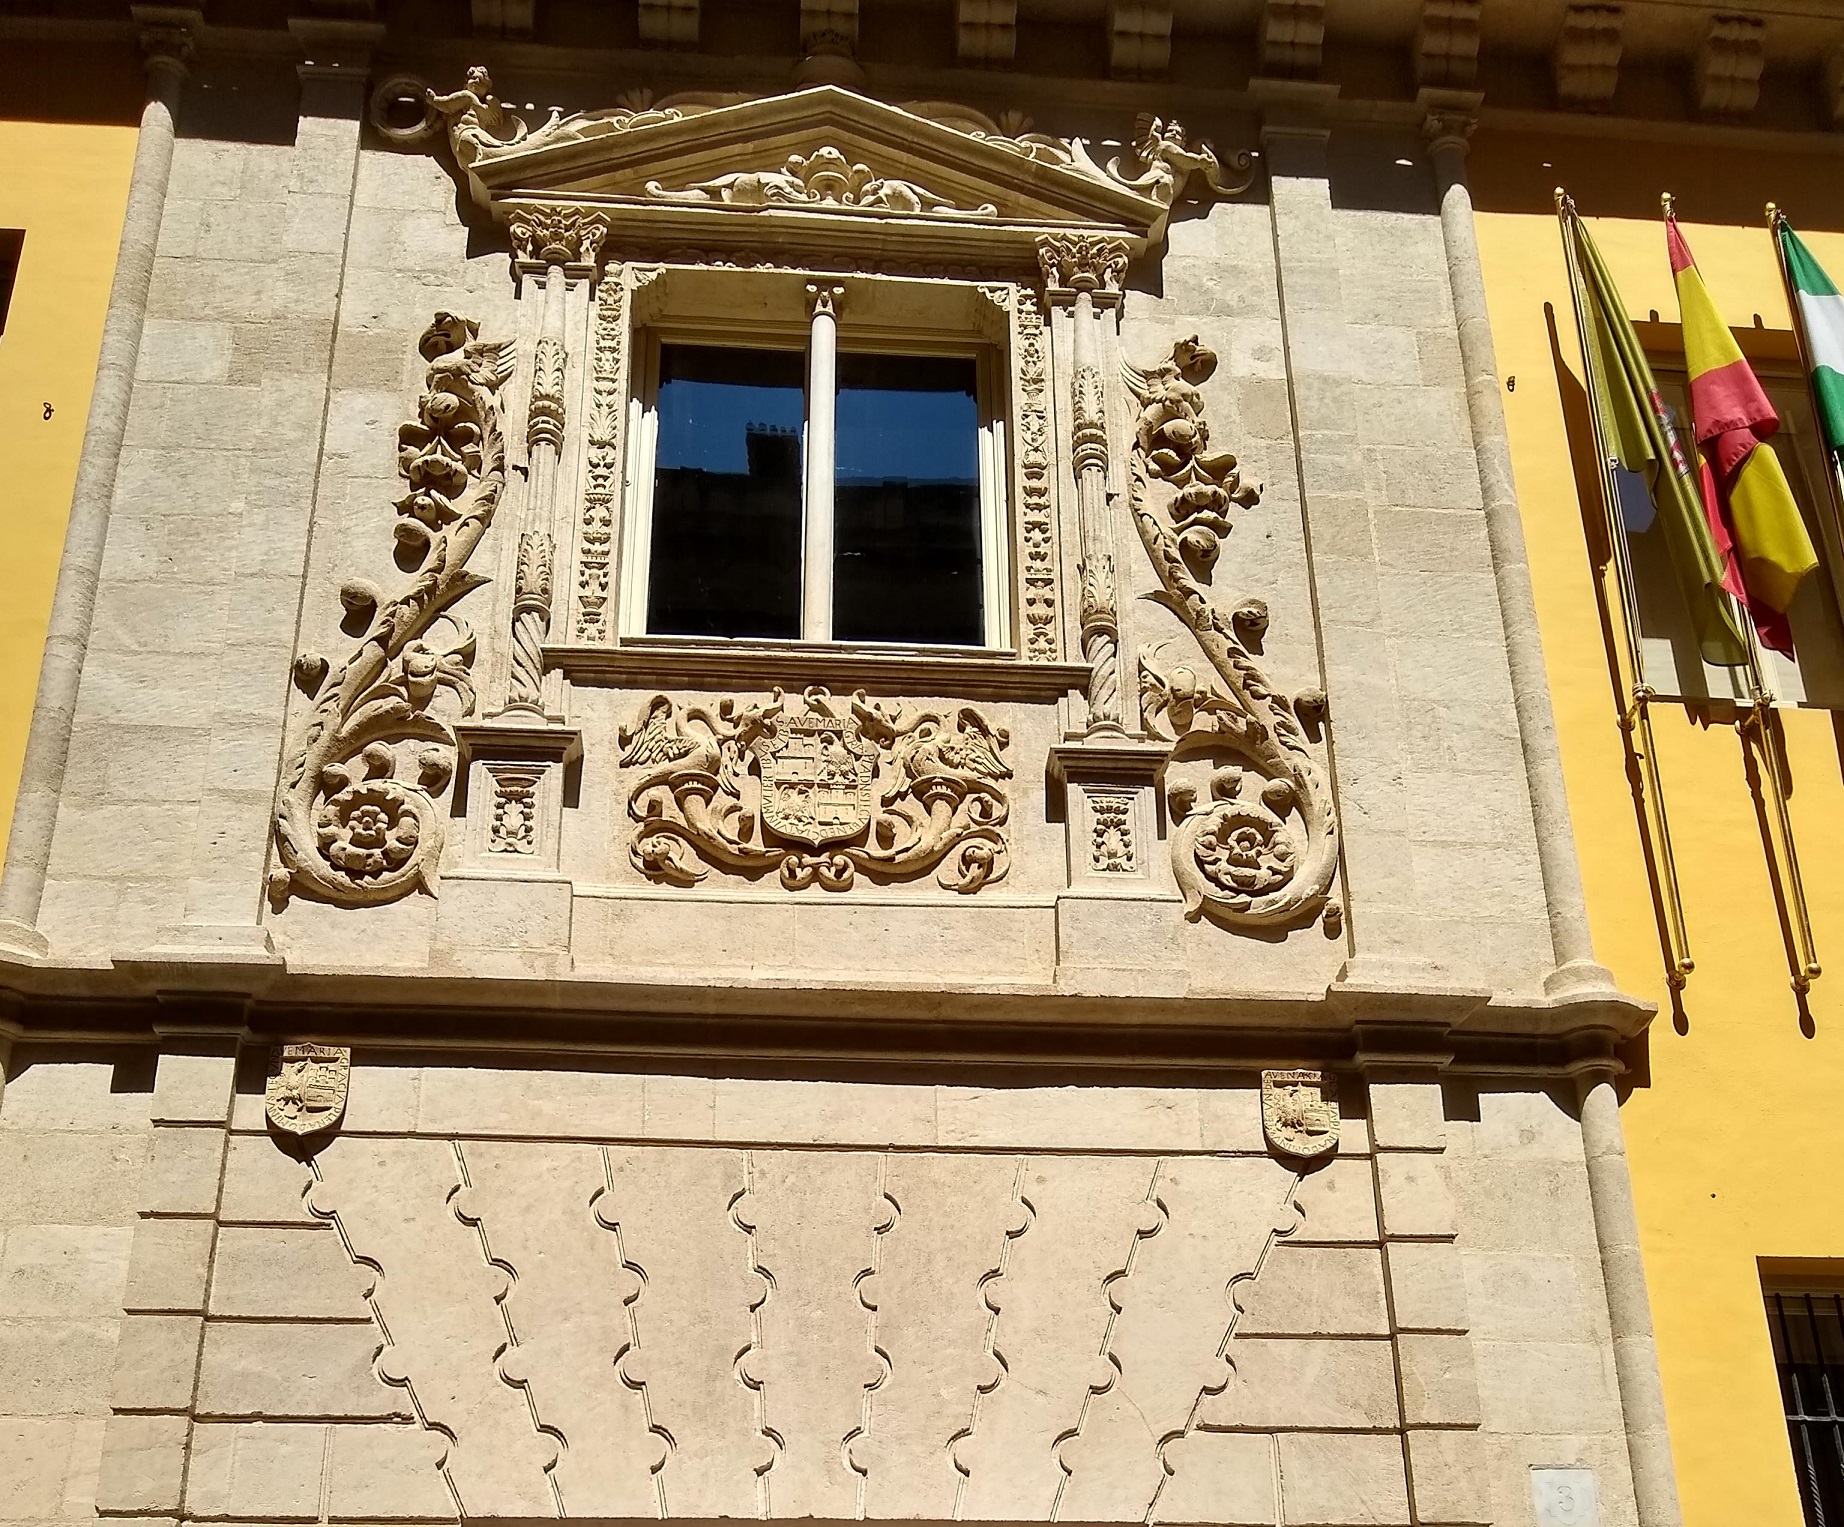fronton: (458, 83, 1179, 248)
vano-adintelado: (528, 201, 1136, 666)
